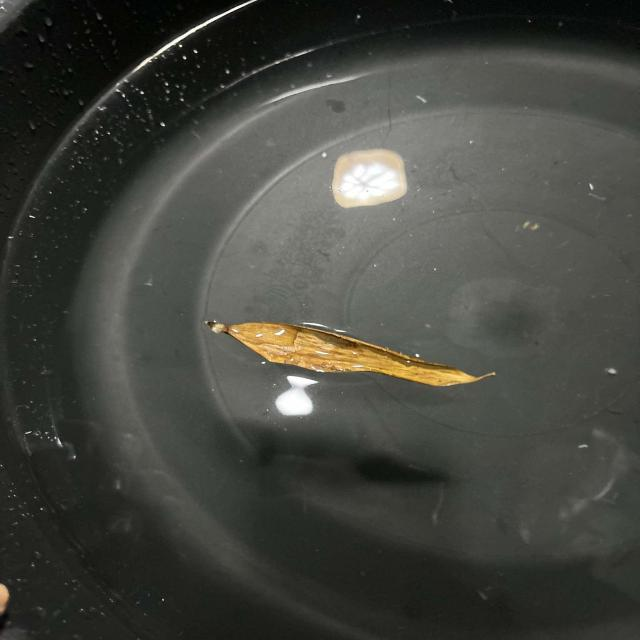Leaf: (205, 321, 495, 386)
